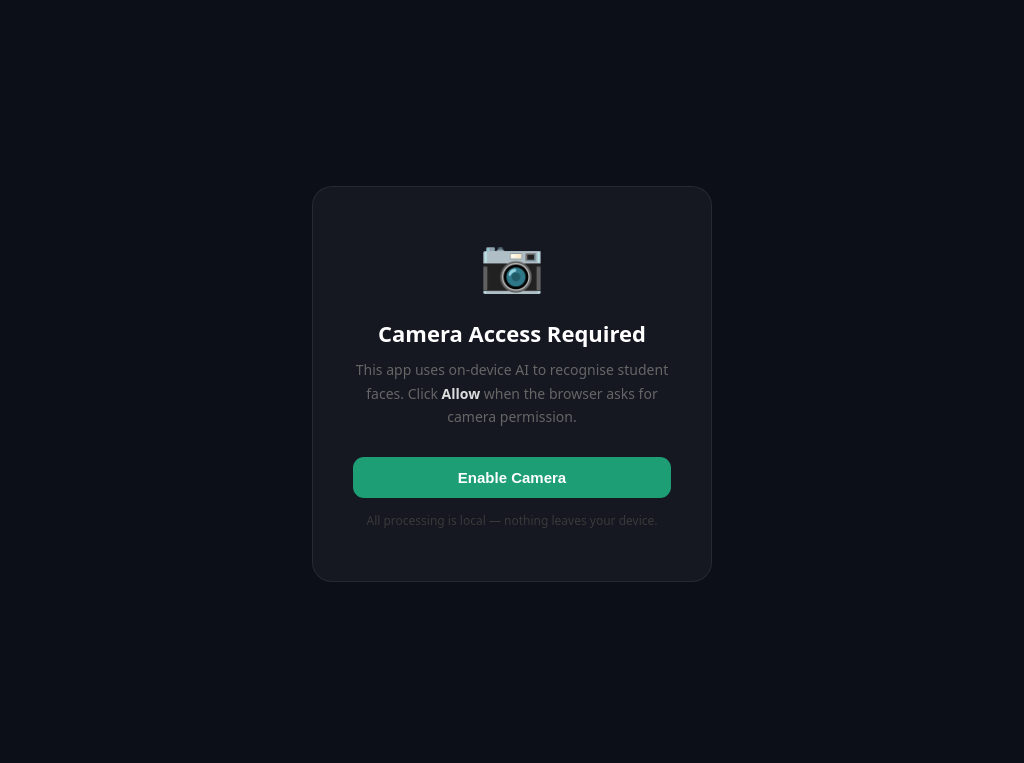
App › renders the roster with scanning disabled until someone is enrolled
The width and height of the screenshot is (1024, 763).
What coordinates should you click on to do the following:
click the button "Enable Camera"
I would click on:
 (512, 478)
Its box is [353,457,671,498].
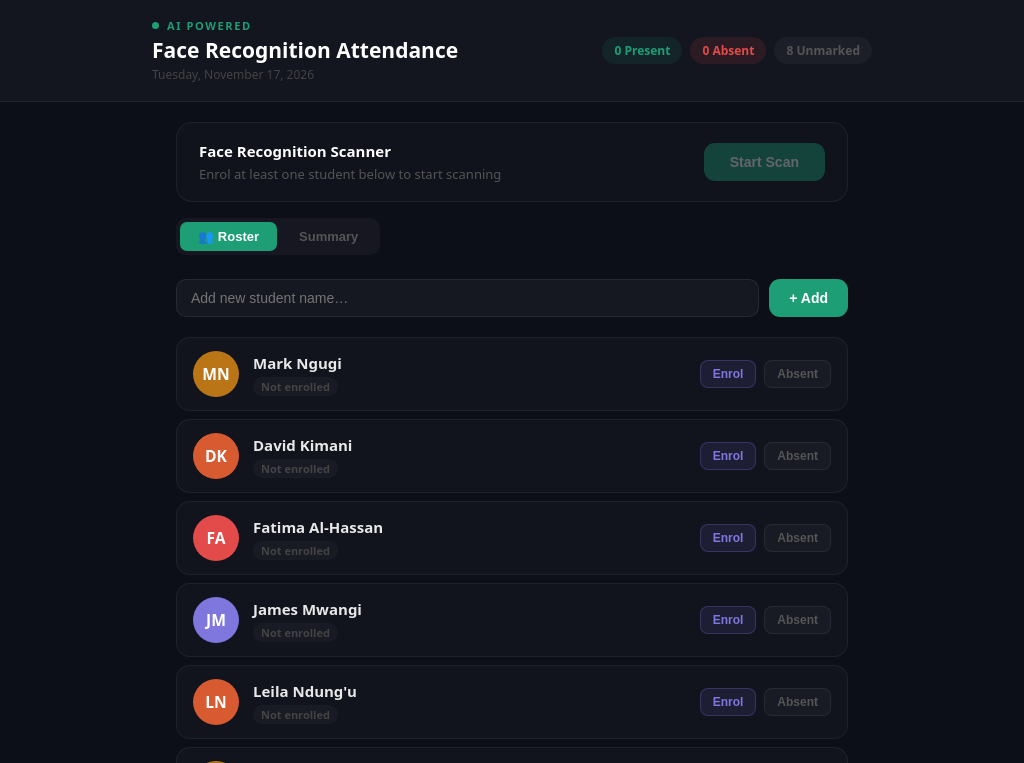
Check: the text "Mark Ngugi" is shown, box [253,352,342,372]
Check: the text "Not enrolled" is shown 8 times
Check: the button "Start Scan" is disabled, box [704,143,825,181]
